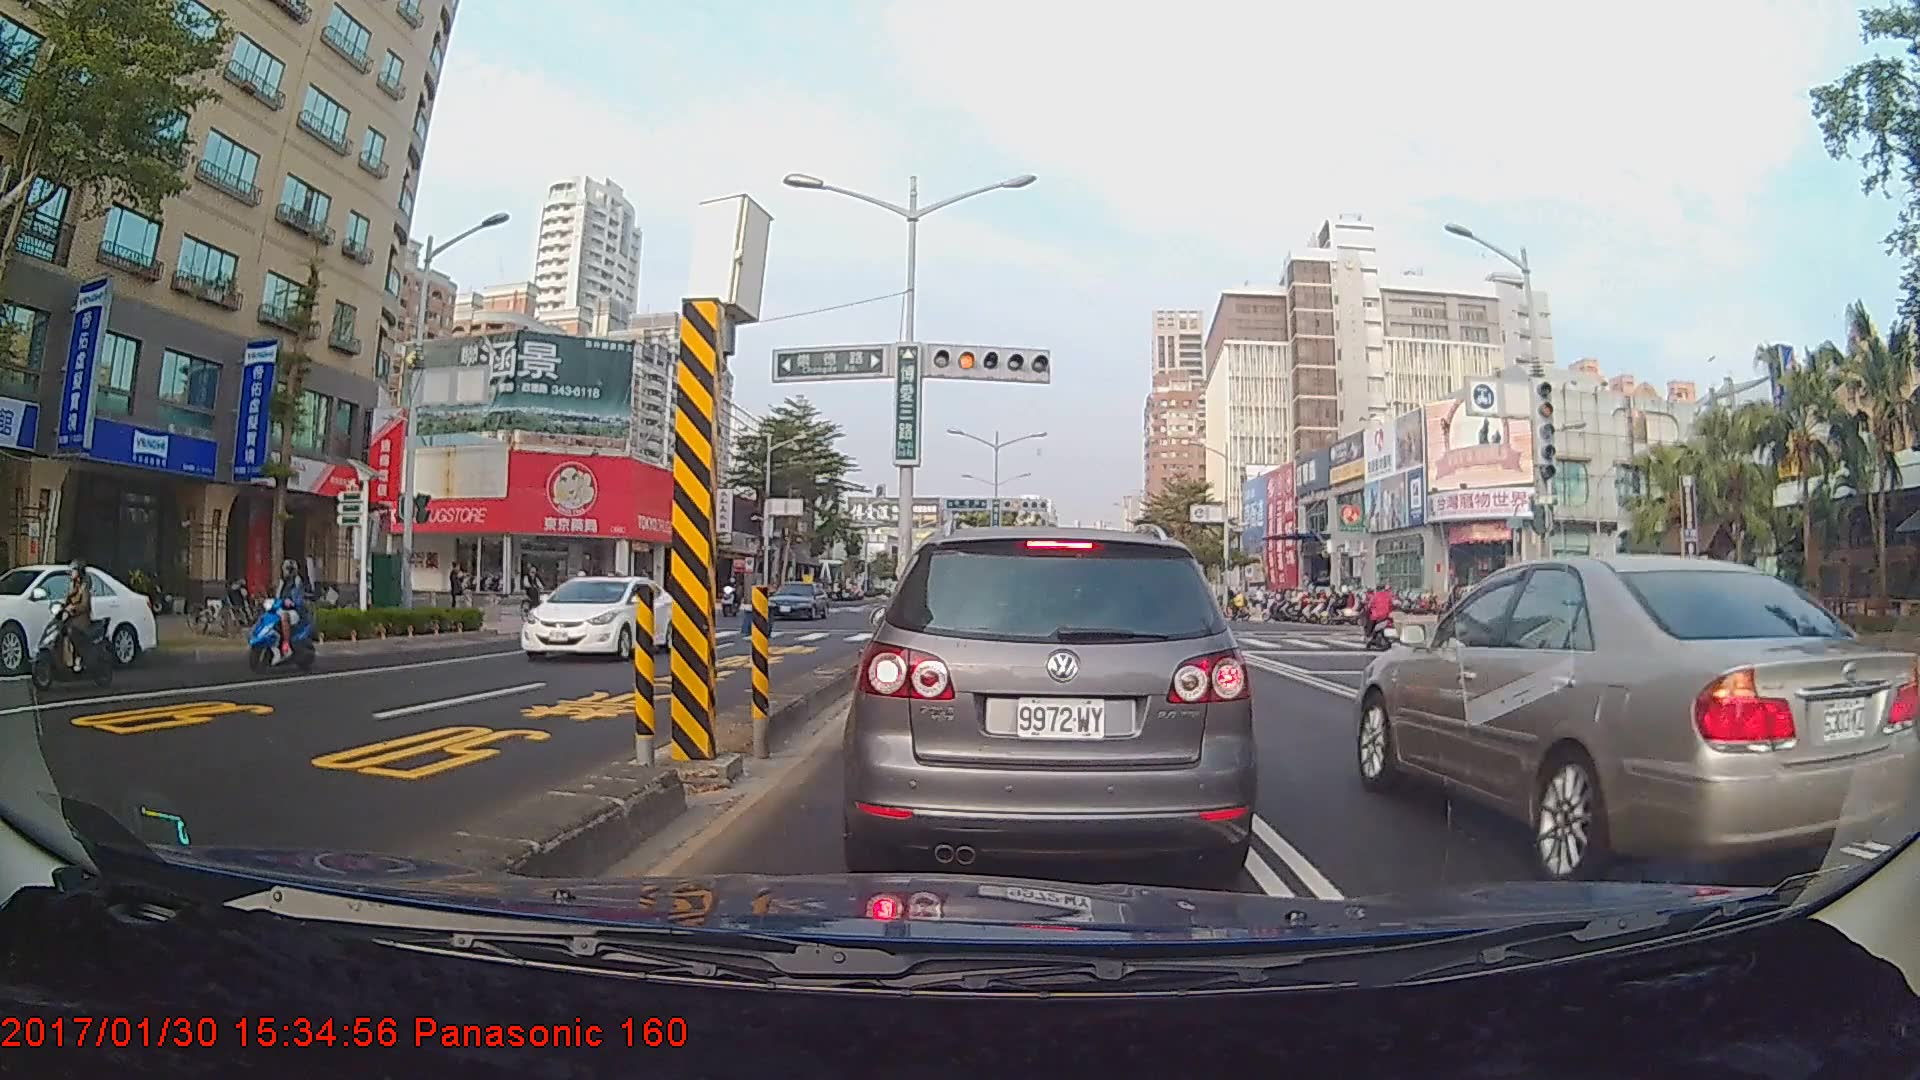pedestrian: (1768, 573, 1795, 648), (448, 558, 468, 621)
rider: (29, 561, 124, 696), (241, 551, 321, 688), (1358, 582, 1408, 669)
vehicle: (1354, 553, 1919, 893), (851, 520, 1252, 881), (0, 561, 179, 671), (519, 573, 675, 662), (764, 578, 829, 621)
